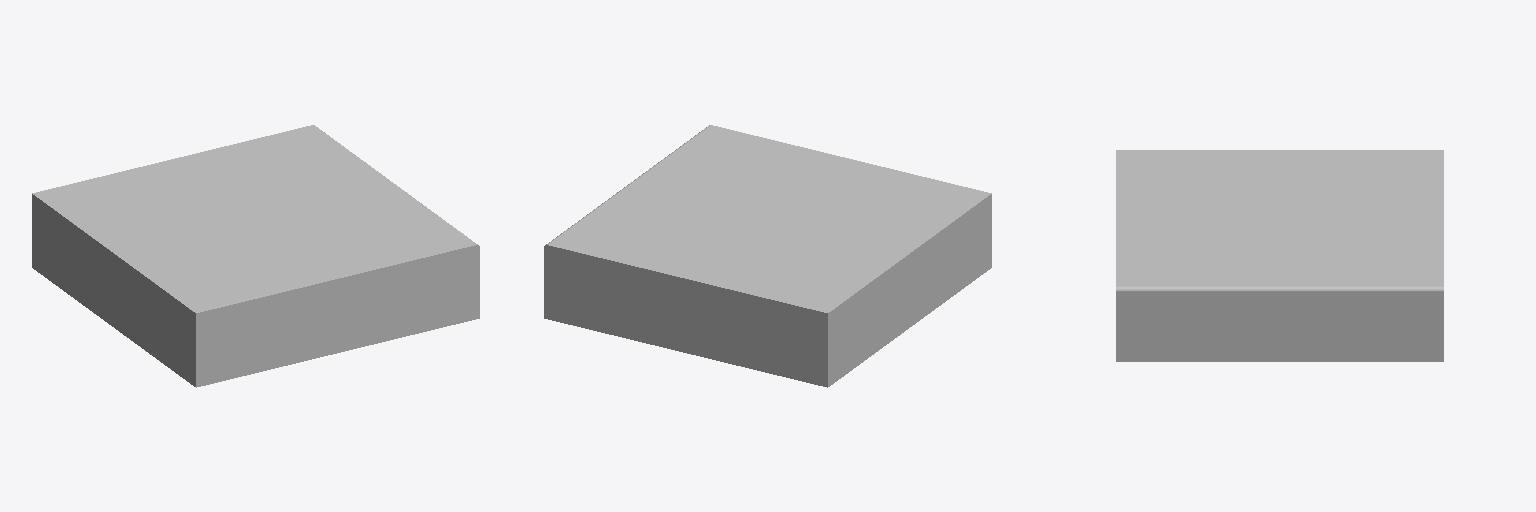
File: smooth_step.obj
3 views of the same model, side by side, from view 1: azimuth 30°, elevation 25°; view 2: azimuth 150°, elevation 25°; view 3: azimuth 270°, elevation 25° (orthographic).
Parts seen in each view (by area): view 1: Cube; view 2: Cube; view 3: Cube.
Boxes of the visible parts, x1,y1,x2,y2 form: Cube: [32, 125, 479, 387]; Cube: [544, 125, 991, 387]; Cube: [1116, 150, 1443, 361].
Size of the model in its own units: 2 by 0.5 by 2.